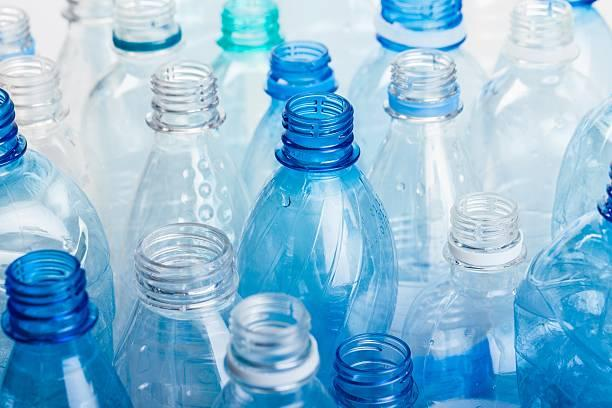plastic: (238, 94, 397, 349), (515, 98, 611, 407), (0, 89, 113, 345), (403, 192, 525, 405), (369, 22, 469, 280), (480, 0, 611, 190), (116, 222, 236, 407), (128, 62, 243, 248), (0, 249, 130, 407), (81, 0, 181, 171), (0, 0, 81, 178), (223, 292, 335, 407), (334, 333, 418, 407)
